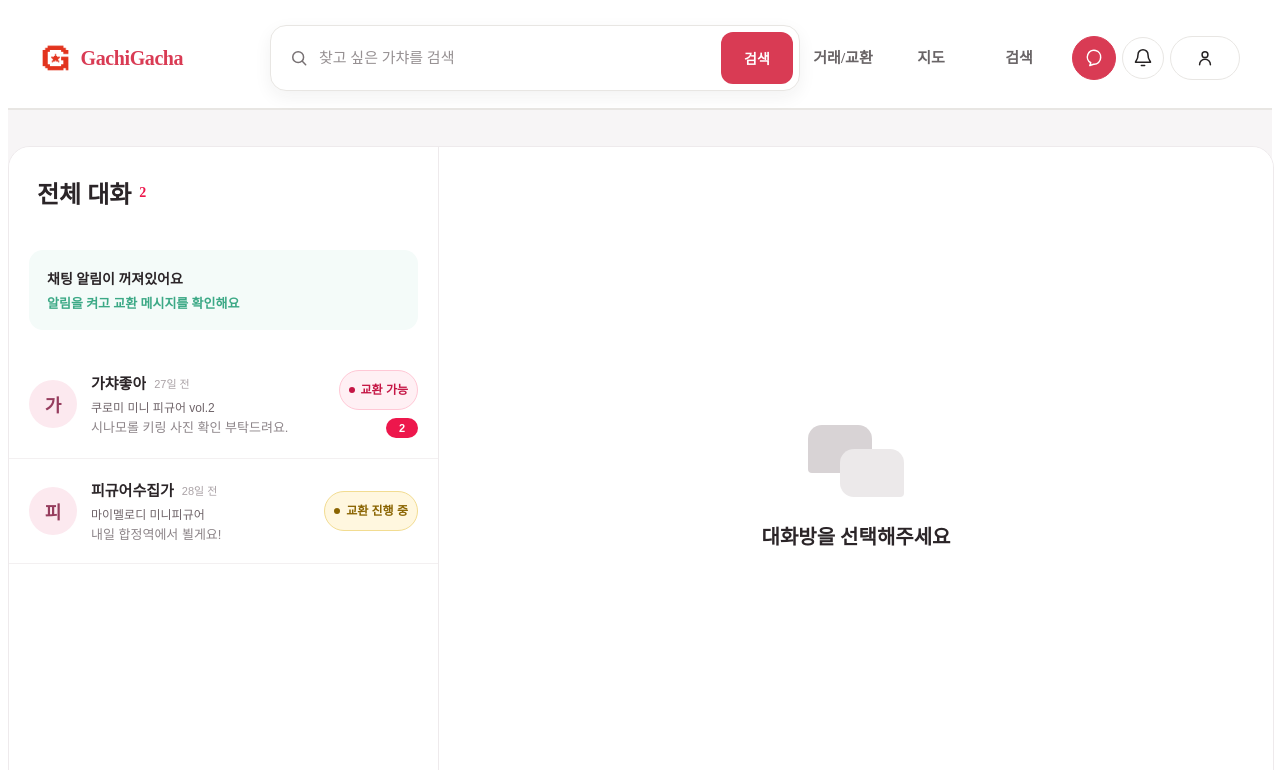
Test: ChatRoute › 목록의 채팅을 선택해도 /chat 주소를 유지하고 내부 패널만 보여준다
Step 1. Click the button "가 가챠좋아 27일 전 쿠로미 미니 피규어 vol.2 시나모롤 키링 사진 확인 부탁드려요. 교환 가능 2" → (53,404), box [9, 350, 438, 459]
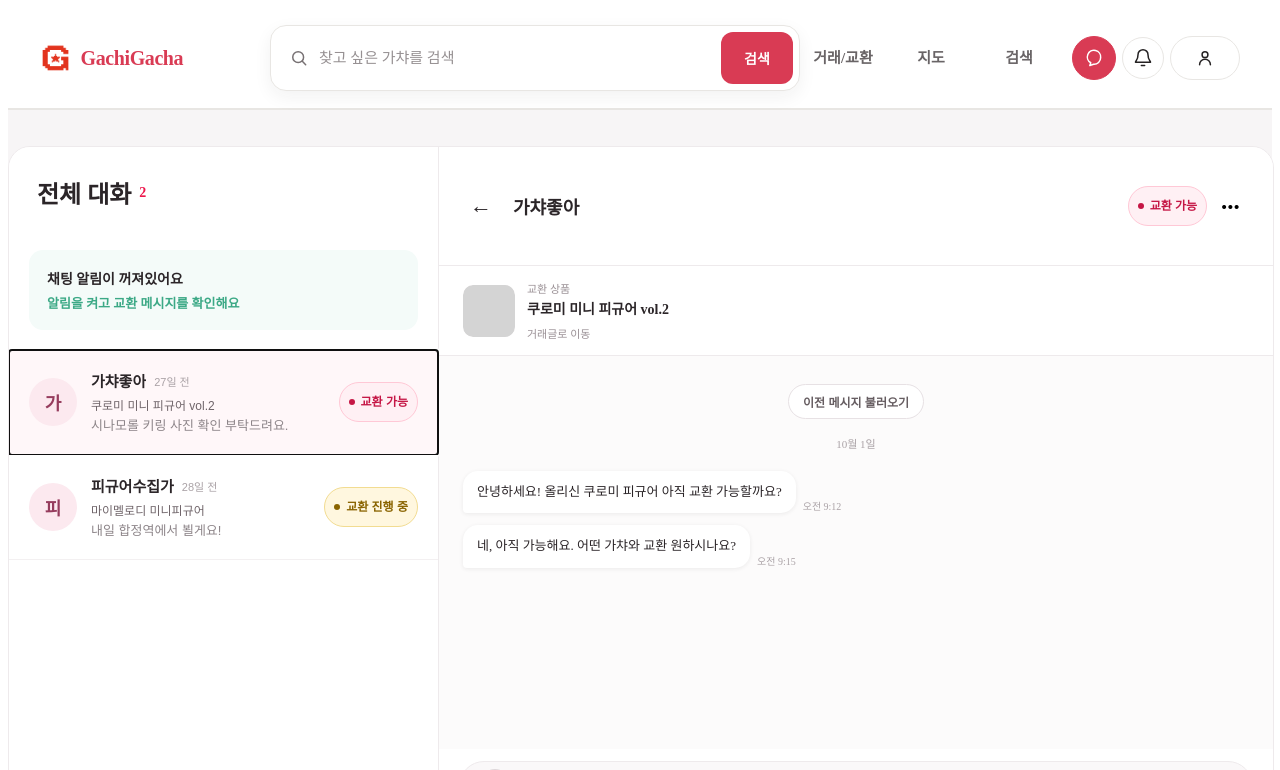
Result: the heading "가챠좋아" is shown at [513, 193, 579, 219]
